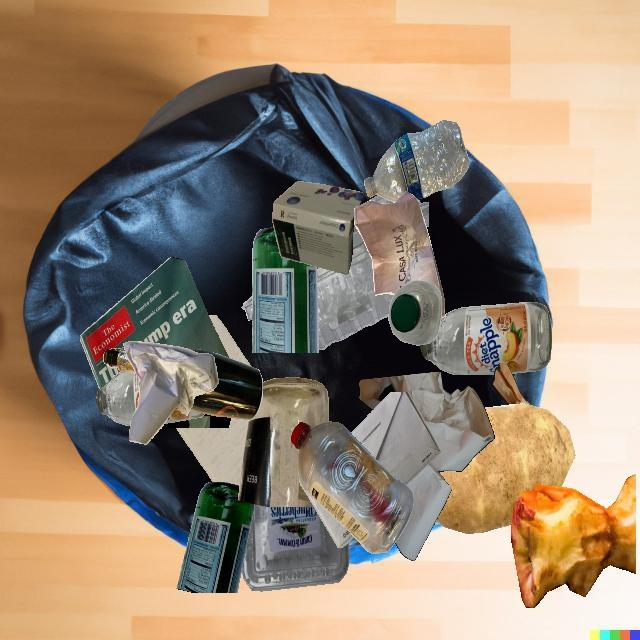biowaste: (436, 403, 575, 533), (511, 474, 636, 608)
cardboard: (272, 181, 365, 275)
glass: (238, 377, 329, 507), (420, 302, 552, 375), (177, 482, 254, 593), (252, 227, 319, 353), (189, 349, 262, 420), (96, 372, 140, 426)
paper: (359, 372, 494, 561), (80, 257, 229, 389), (354, 191, 445, 318), (123, 341, 219, 445), (351, 392, 440, 485), (176, 418, 248, 486), (111, 375, 203, 423), (492, 363, 530, 405)
plastic: (291, 421, 414, 554), (242, 504, 349, 591), (364, 120, 470, 202), (357, 201, 420, 317), (388, 280, 442, 346)
